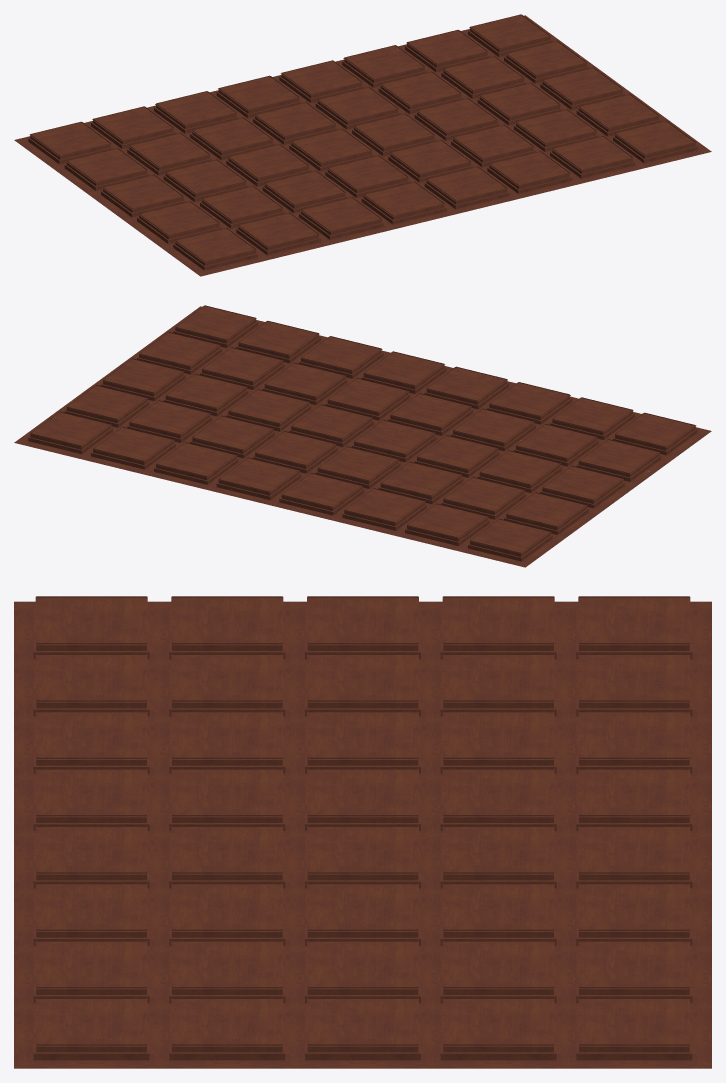
The model's file is SM_WoodCeiling01A.fbx.
3 renders of one model, top to bottom at view 1: azimuth 30°, elevation 25°; view 2: azimuth 150°, elevation 25°; view 3: azimuth 270°, elevation 25°, orthographic. The views are drawn at different scales.
Visible parts, largest first — view 1: SM_WoodCeiling01A; view 2: SM_WoodCeiling01A; view 3: SM_WoodCeiling01A.
Boxes of the visible parts, left/top/right/bottom form: SM_WoodCeiling01A: left=14, top=14, right=711, bottom=276; SM_WoodCeiling01A: left=14, top=305, right=711, bottom=567; SM_WoodCeiling01A: left=14, top=596, right=711, bottom=1068.
Bounding box in the file's own units: 318 × 201 × 4.66.
Materials: 1 (1 with a texture image).
